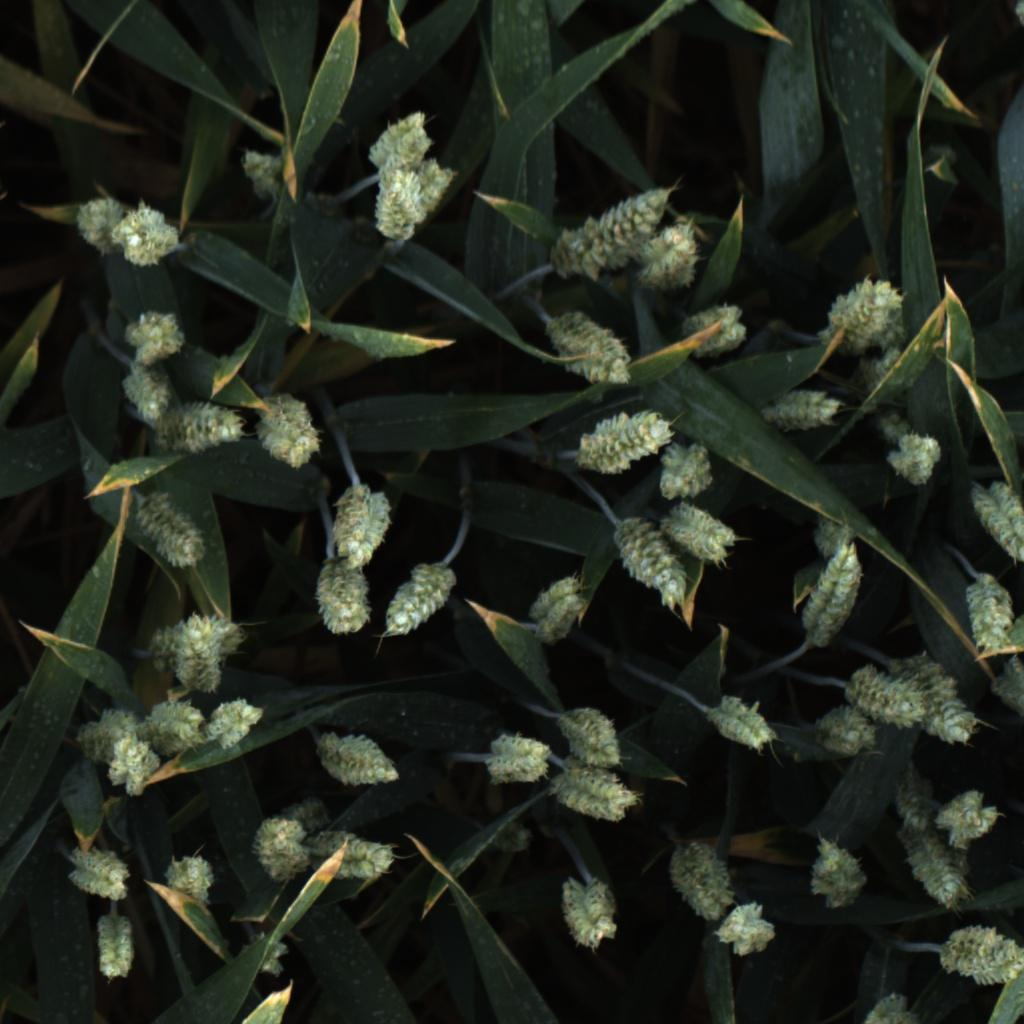0-0: (543, 181, 672, 284), (803, 537, 870, 653), (141, 611, 249, 680), (574, 403, 674, 477), (614, 516, 690, 611), (817, 272, 908, 349), (909, 658, 983, 752), (843, 660, 937, 733), (546, 751, 641, 822), (931, 926, 1024, 997), (381, 558, 460, 640), (552, 318, 636, 390), (905, 828, 978, 909), (635, 220, 715, 292), (330, 478, 394, 567), (554, 870, 624, 950), (951, 574, 1020, 655), (304, 826, 400, 884), (310, 730, 403, 789), (670, 838, 736, 920), (703, 688, 782, 756), (254, 393, 324, 469), (657, 501, 735, 569), (803, 835, 873, 909), (249, 808, 316, 885), (523, 571, 588, 648), (134, 500, 205, 570), (313, 557, 375, 637), (170, 607, 224, 697), (969, 478, 1024, 566), (152, 404, 250, 453), (364, 167, 422, 246), (676, 300, 747, 363), (558, 705, 629, 767), (880, 431, 950, 493), (756, 387, 848, 434), (477, 729, 553, 785), (401, 155, 459, 228), (66, 844, 135, 904), (112, 205, 176, 268), (367, 104, 431, 167), (714, 897, 779, 958), (122, 309, 187, 368), (819, 699, 879, 761), (653, 440, 711, 504), (942, 783, 1001, 845), (104, 736, 162, 797), (146, 699, 205, 758), (69, 198, 126, 258), (854, 342, 913, 399), (235, 140, 291, 199), (92, 914, 137, 987), (209, 696, 268, 751), (76, 706, 138, 758), (869, 405, 928, 456), (893, 769, 942, 830), (162, 848, 220, 898), (120, 369, 172, 424), (804, 516, 862, 563), (988, 650, 1024, 722), (858, 988, 926, 1024)
